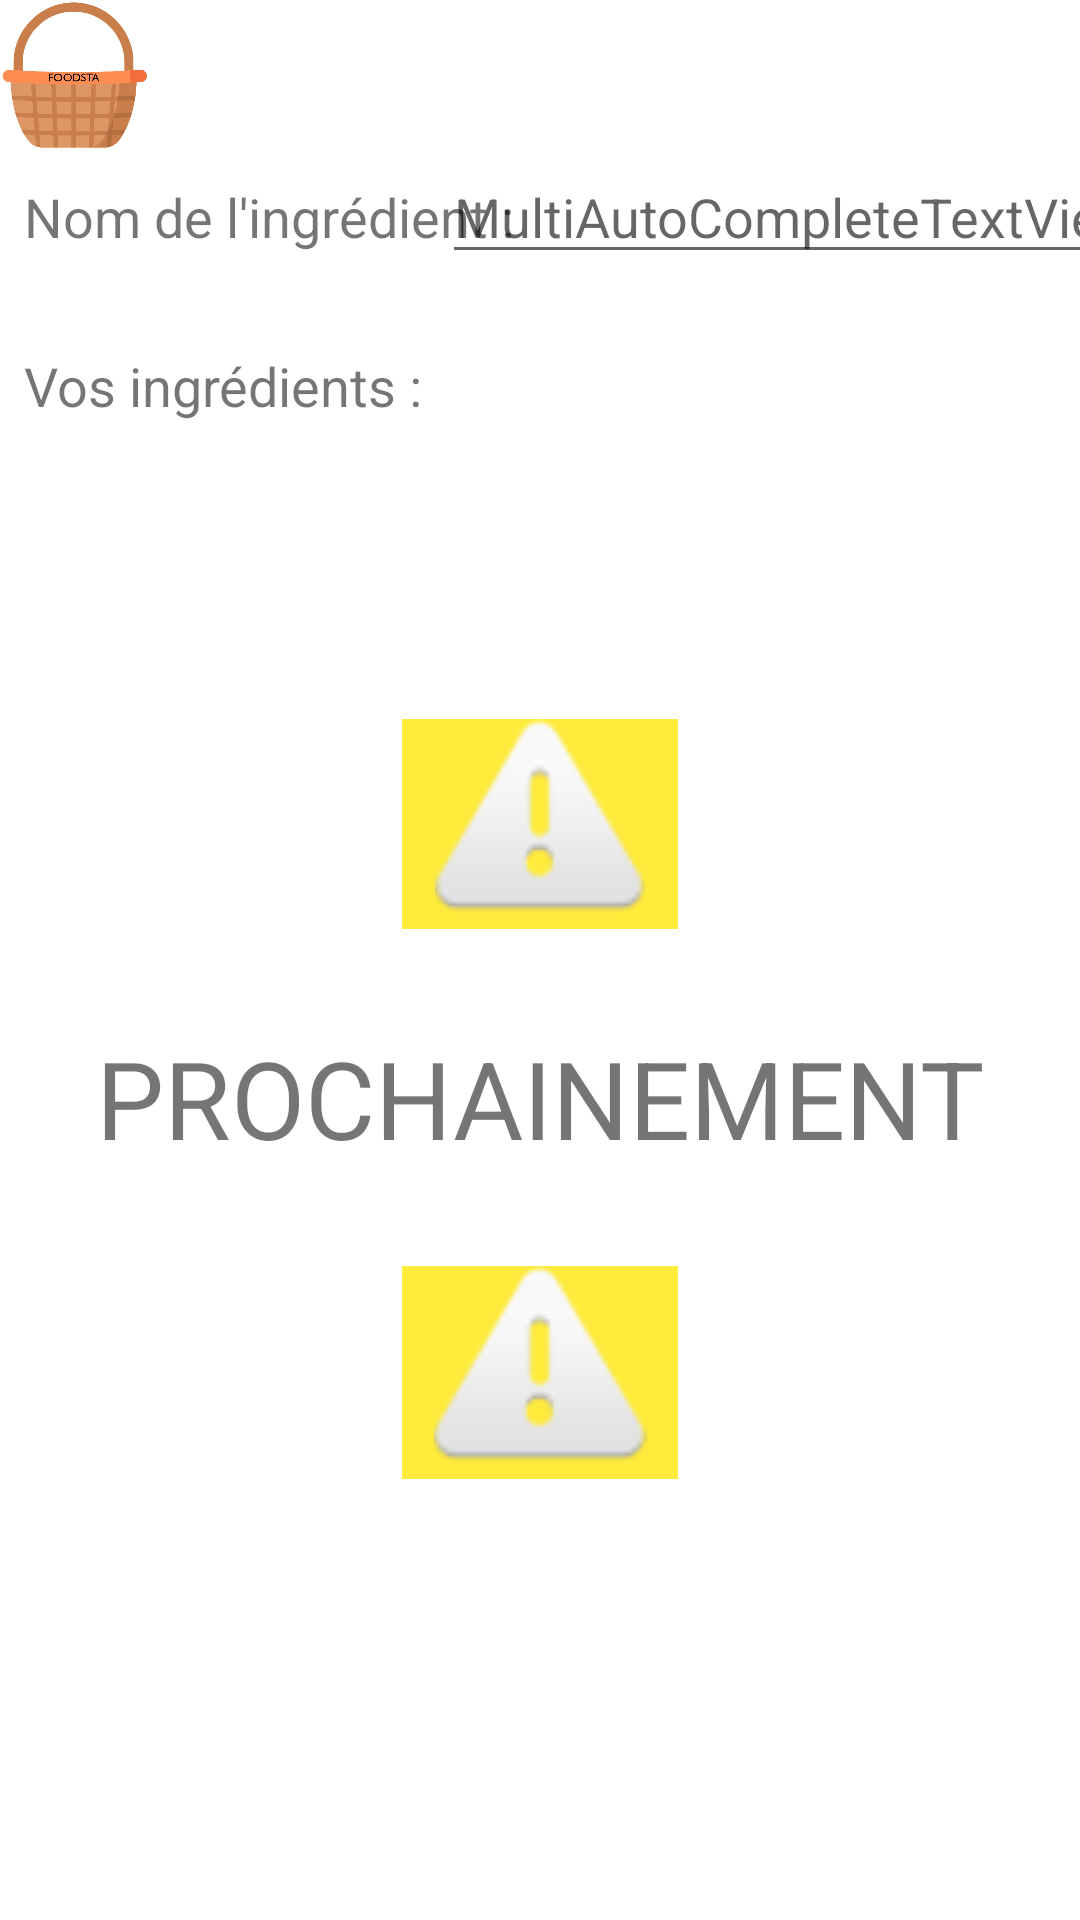

Screen size 1080 x 1920. Icon name, then its center in pixels as (x,y):
alert: (540,824), (540,1372)
